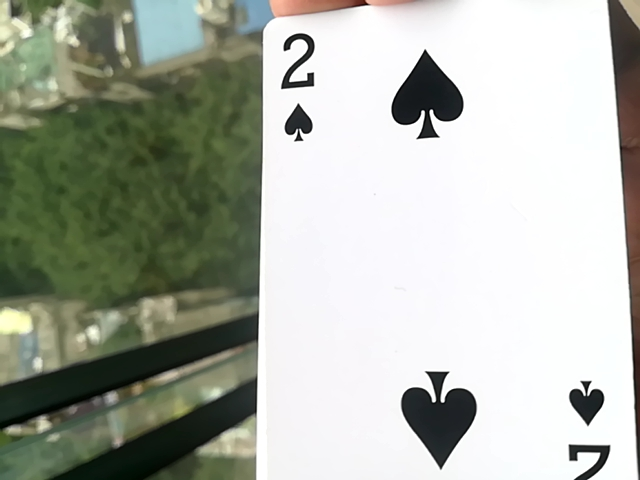ht 2: (234, 6, 634, 477)
